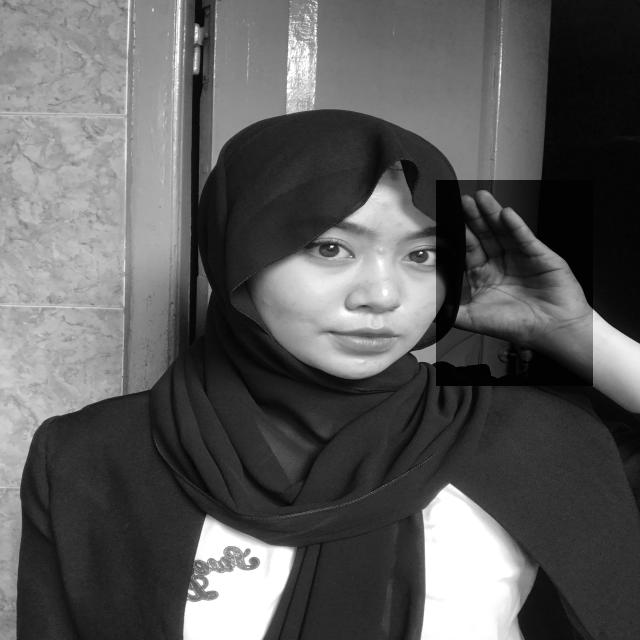mendengar: (436, 180, 593, 386)
